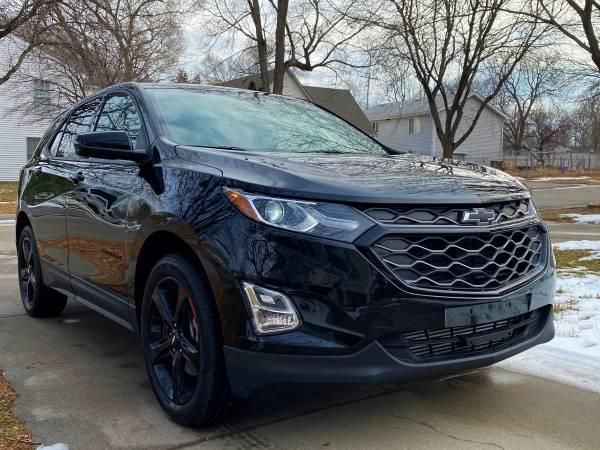Front_Bumper: (195, 210, 556, 403)
Front_Fender: (123, 148, 240, 324)
Front_Right_Door: (63, 155, 147, 331)
Front_Right_Window: (79, 91, 149, 162)
Front_Windshield: (154, 91, 388, 158)
Grille: (349, 194, 557, 304)
Hood: (178, 144, 531, 203)
Rear_Right_Door: (16, 152, 73, 293)
Rear_Right_Window: (35, 93, 99, 162)
Right_Headlight: (226, 183, 377, 245)
Roof: (54, 82, 309, 147)
Wheel: (136, 247, 221, 411), (14, 227, 66, 315)
